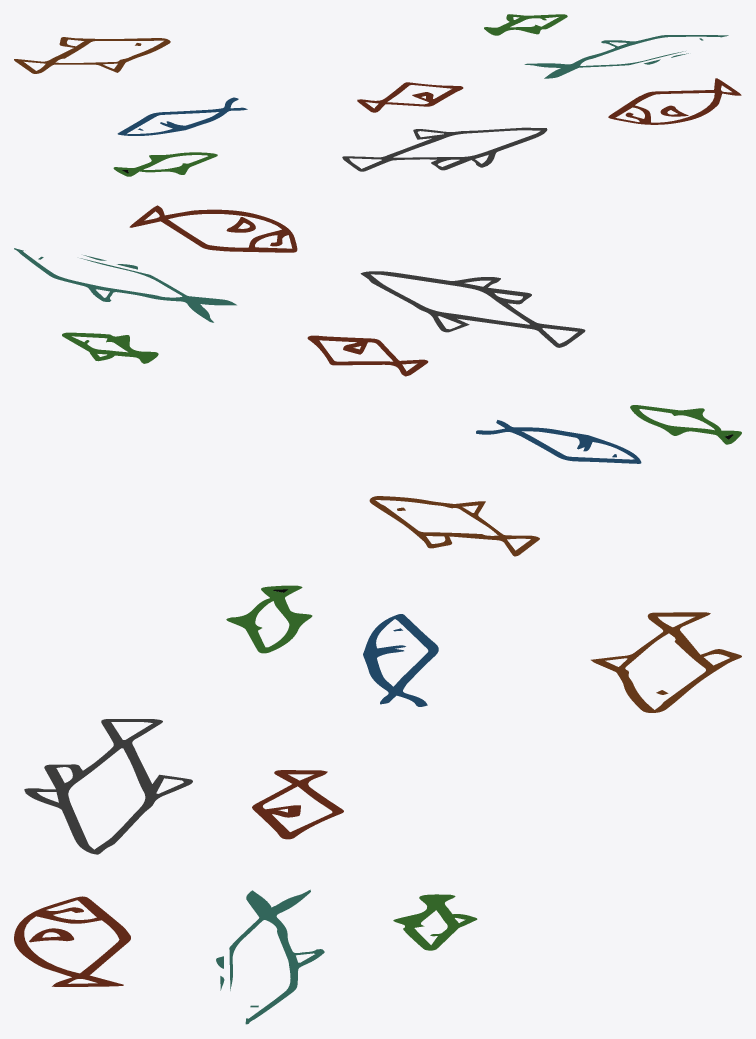
The model's file is fishes.dae.
3 renders of one model, top to bottom at view 1: azimuth 30°, elevation 25°; view 2: azimuth 150°, elevation 25°; view 3: azimuth 270°, elevation 25°, orthographic. The views are drawn at different scales.
Parts seen in each view (by area): view 1: Curve.006, Curve.008, Curve.009, Curve.038, Curve.041, Curve.011, Curve.005, Curve.012; view 2: Curve.006, Curve.008, Curve.009, Curve.038, Curve.041, Curve.011, Curve.005, Curve.012; view 3: Curve.006, Curve.008, Curve.009, Curve.038, Curve.041, Curve.011, Curve.005, Curve.012.
Part boxes in pixels (left/top/right/bottom): Curve.006: left=342, top=127, right=547, bottom=171; Curve.008: left=608, top=78, right=741, bottom=124; Curve.009: left=14, top=37, right=170, bottom=73; Curve.038: left=524, top=35, right=728, bottom=78; Curve.041: left=117, top=97, right=247, bottom=135; Curve.011: left=357, top=82, right=463, bottom=112; Curve.005: left=113, top=152, right=217, bottom=176; Curve.012: left=484, top=14, right=567, bottom=35; Curve.006: left=360, top=271, right=585, bottom=347; Curve.008: left=129, top=205, right=297, bottom=252; Curve.009: left=369, top=496, right=539, bottom=556; Curve.038: left=14, top=248, right=236, bottom=322; Curve.041: left=476, top=420, right=641, bottom=463; Curve.011: left=307, top=335, right=428, bottom=376; Curve.005: left=630, top=405, right=741, bottom=444; Curve.012: left=62, top=332, right=158, bottom=363; Curve.006: left=24, top=719, right=192, bottom=854; Curve.008: left=14, top=896, right=130, bottom=986; Curve.009: left=591, top=612, right=741, bottom=712; Curve.038: left=216, top=889, right=324, bottom=1024; Curve.041: left=363, top=614, right=438, bottom=706; Curve.011: left=252, top=770, right=343, bottom=839; Curve.005: left=226, top=585, right=312, bottom=653; Curve.012: left=393, top=894, right=477, bottom=950.
Size of the model in its own units: 2.62 by 1.84 by 0.
